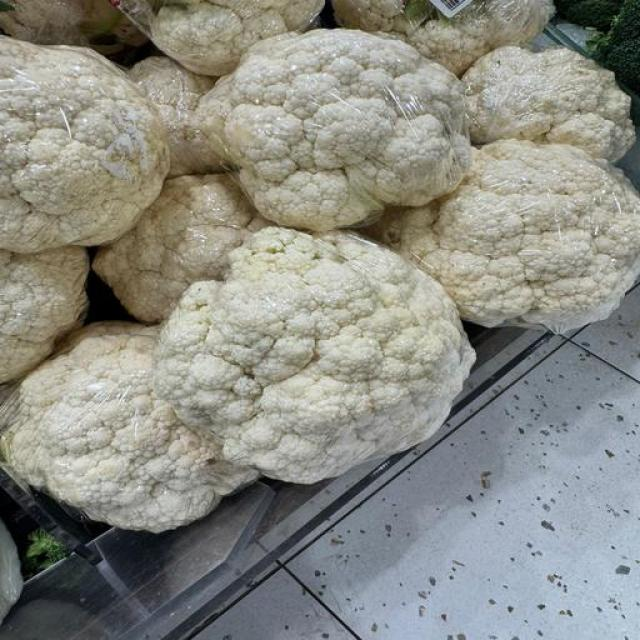organic: (154, 227, 474, 483), (199, 27, 473, 231), (8, 323, 256, 532), (395, 140, 639, 332), (0, 38, 168, 272), (467, 48, 634, 161), (333, 0, 553, 76), (129, 0, 324, 77), (0, 247, 88, 383), (592, 0, 639, 92), (0, 520, 22, 626), (598, 0, 639, 54), (23, 529, 67, 578), (557, 0, 622, 31), (567, 0, 621, 31), (607, 42, 639, 92), (610, 0, 639, 43), (403, 0, 449, 27), (554, 0, 623, 17), (79, 12, 123, 37), (404, 0, 438, 26), (587, 33, 608, 62), (555, 0, 581, 16), (89, 34, 118, 46), (0, 434, 11, 463), (0, 0, 14, 12), (0, 0, 14, 11)
